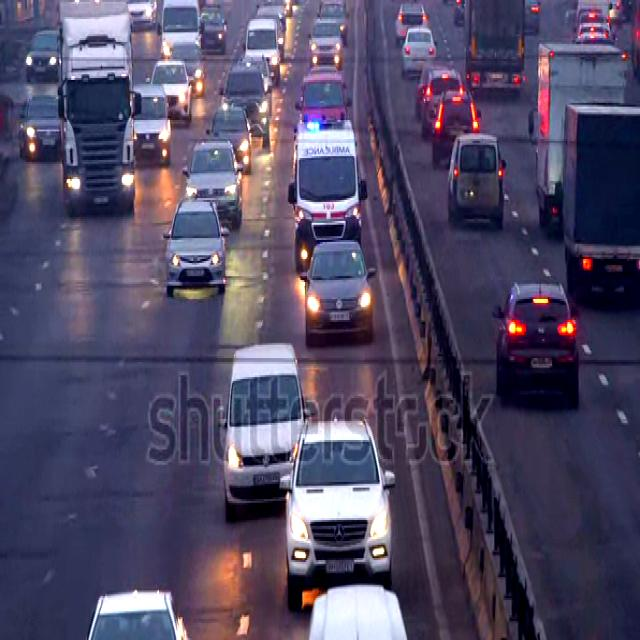ambulance: (291, 118, 369, 282)
